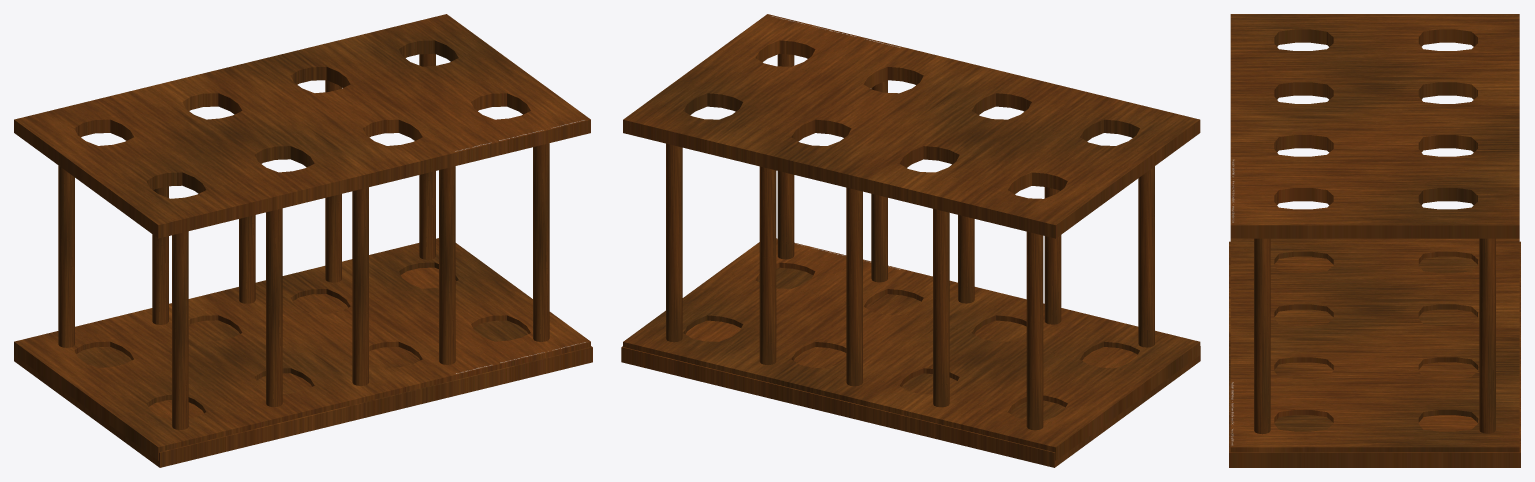
Rendered from test-tube-rack.obj.
3 renders of one model, left to right at view 1: azimuth 30°, elevation 25°; view 2: azimuth 150°, elevation 25°; view 3: azimuth 270°, elevation 25°, orthographic.
Visible parts, largest first — view 1: Toplayer, BottomLayer, cube03, cylinder09, cylinder06, cylinder07, cylinder10, cylinder08, cylinder03, cylinder01, cylinder04, cylinder05 (+1 smaller); view 2: Toplayer, BottomLayer, cube03, cylinder03, cylinder05, cylinder02, cylinder04, cylinder01, cylinder06, cylinder10, cylinder07, cylinder09 (+1 smaller); view 3: Toplayer, BottomLayer, cube03, cylinder10, cylinder01.
Part boxes in pixels (bbox=[...]): Toplayer: bbox=[14, 14, 590, 238]; BottomLayer: bbox=[14, 238, 590, 460]; cube03: bbox=[14, 267, 592, 467]; cylinder09: bbox=[439, 166, 455, 364]; cylinder06: bbox=[172, 231, 188, 429]; cylinder07: bbox=[266, 208, 282, 407]; cylinder10: bbox=[533, 143, 549, 341]; cylinder08: bbox=[352, 187, 368, 385]; cylinder03: bbox=[58, 165, 74, 347]; cylinder01: bbox=[419, 53, 435, 259]; cylinder04: bbox=[152, 186, 168, 324]; cylinder05: bbox=[325, 80, 341, 282]; Toplayer: bbox=[623, 14, 1200, 238]; BottomLayer: bbox=[623, 238, 1200, 460]; cube03: bbox=[621, 267, 1200, 467]; cylinder03: bbox=[1026, 231, 1043, 430]; cylinder05: bbox=[759, 166, 776, 364]; cylinder02: bbox=[846, 187, 862, 386]; cylinder04: bbox=[933, 208, 949, 407]; cylinder01: bbox=[666, 143, 682, 342]; cylinder06: bbox=[1138, 166, 1154, 347]; cylinder10: bbox=[777, 53, 794, 259]; cylinder07: bbox=[1044, 187, 1061, 324]; cylinder09: bbox=[871, 80, 887, 282]; Toplayer: bbox=[1230, 14, 1519, 238]; BottomLayer: bbox=[1230, 238, 1519, 452]; cube03: bbox=[1229, 241, 1520, 467]; cylinder10: bbox=[1254, 238, 1270, 434]; cylinder01: bbox=[1479, 238, 1495, 433].
Bounding box in the file's own units: 60.08 × 32.08 × 35.
